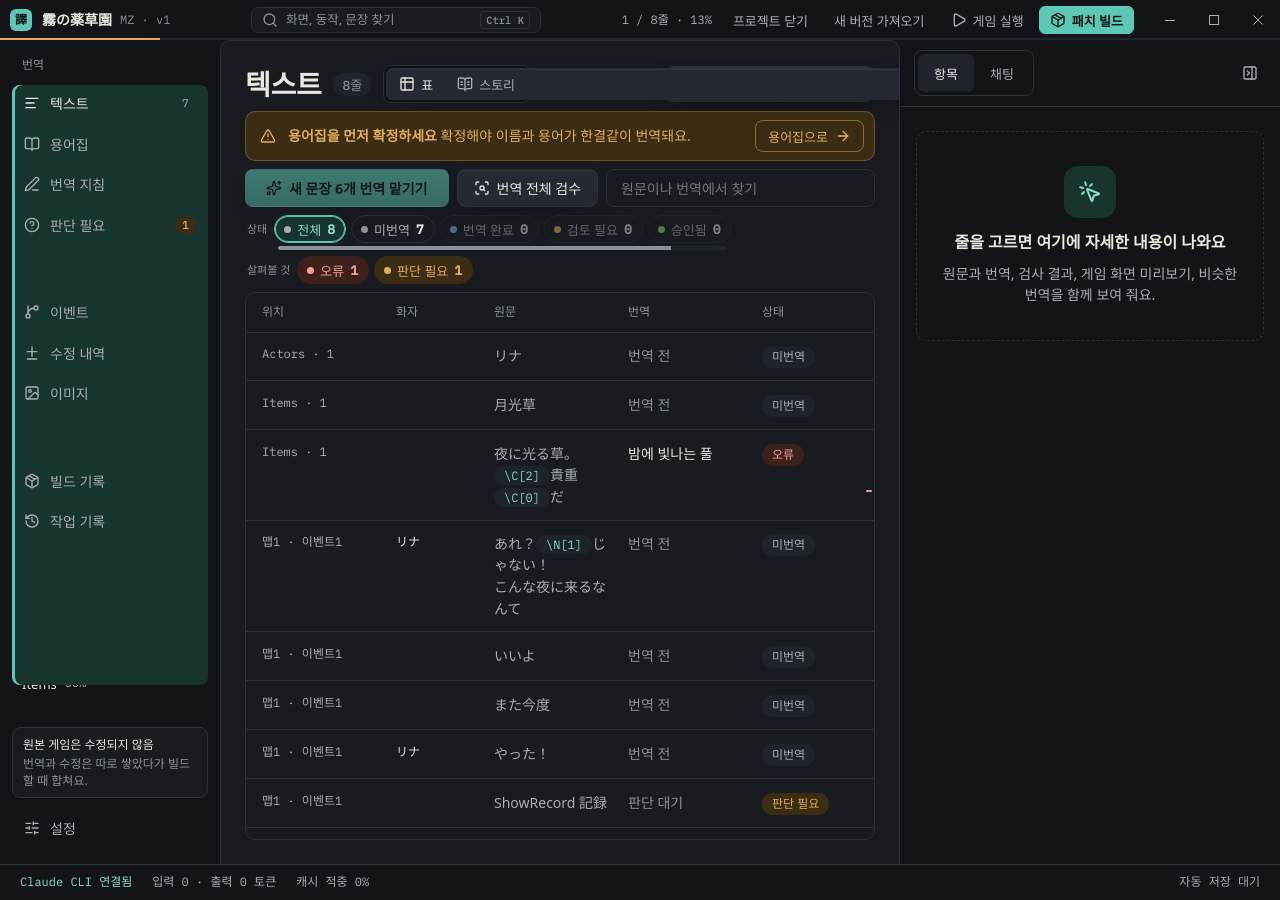
끌어다 놓은 폴더도 확인한다
Expected: the text "霧の薬草園" is shown, [42,9,112,31]
Step 1. Click the button "새 버전 가져오기" → x=879, y=20, box [823,6,936,34]
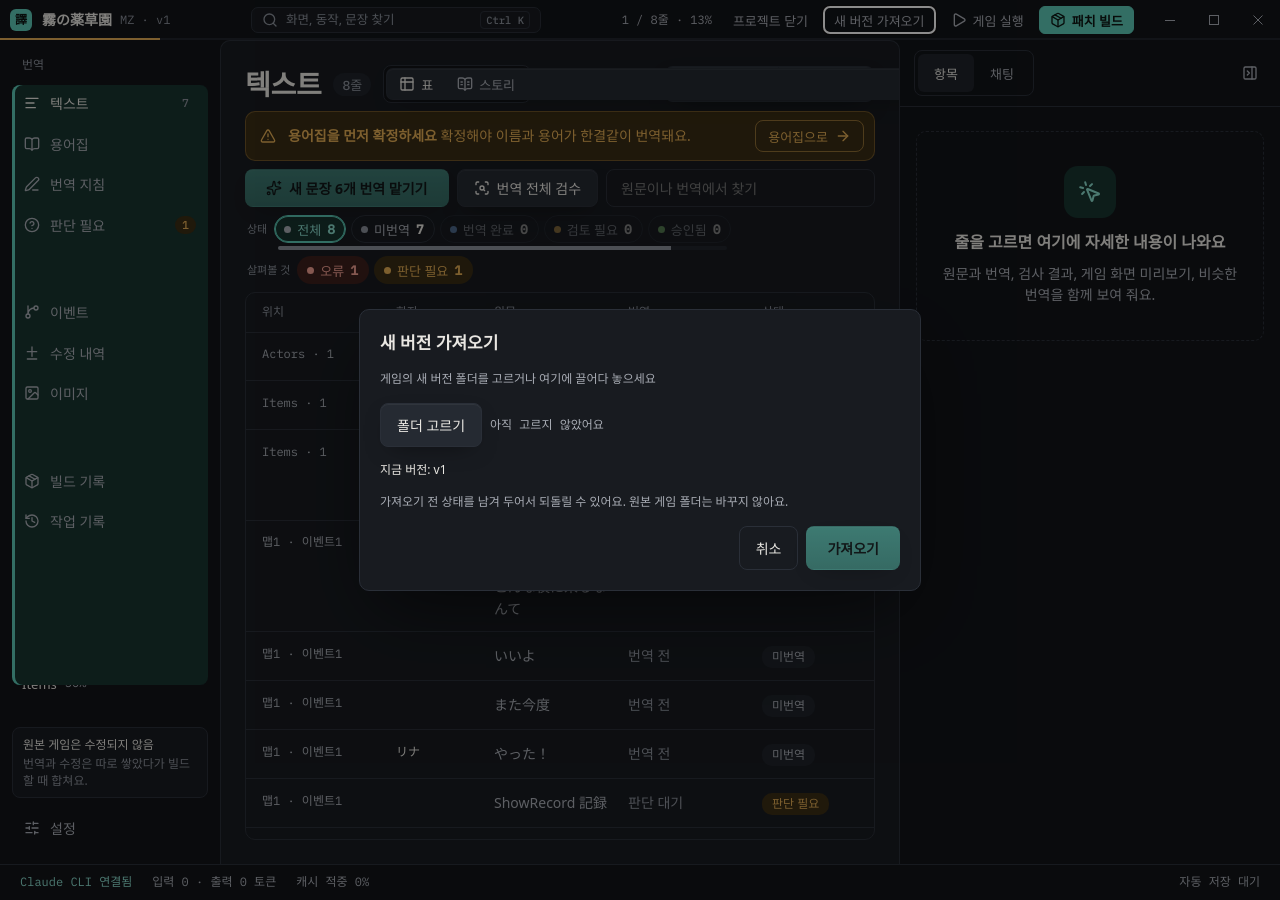
Result: the text "게임의 새 버전 폴더를 고르거나 여기에 끌어다 놓으세요" is shown at [380,370,656,387]
